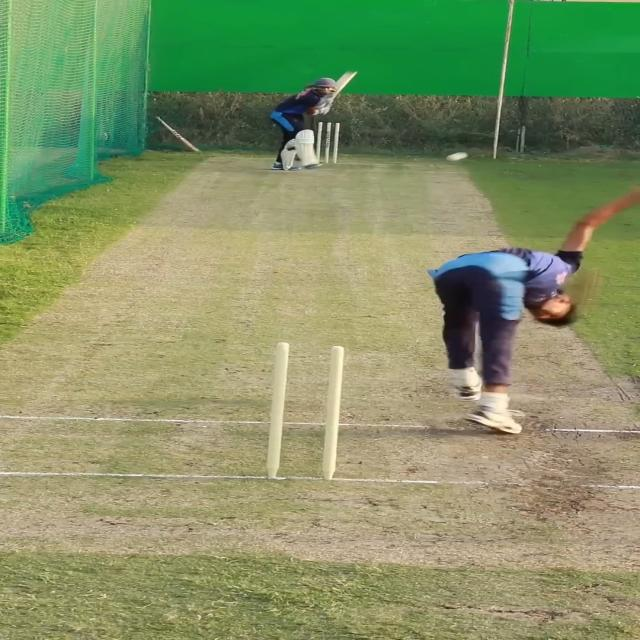ball: (445, 152, 467, 163)
stump: (264, 342, 344, 478), (315, 121, 341, 164)
